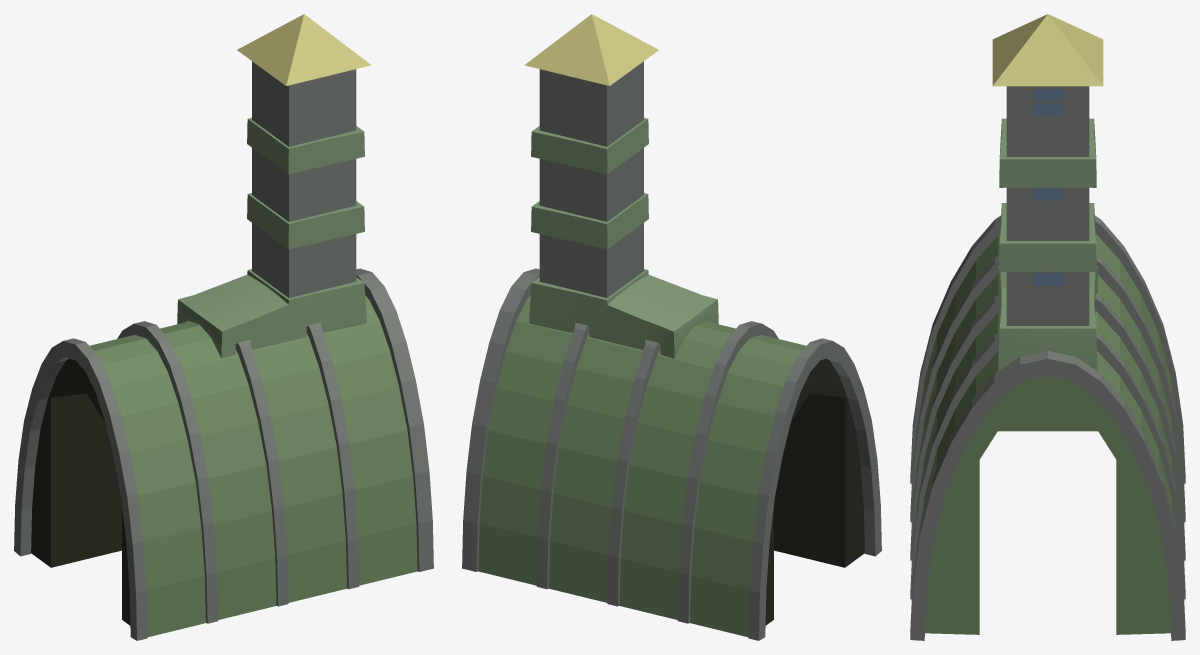
3 views of the same model, side by side, from view 1: azimuth 30°, elevation 25°; view 2: azimuth 150°, elevation 25°; view 3: azimuth 270°, elevation 25° (orthographic). The views are drawn at different scales.
Visible parts, largest first — view 1: Base4, Expansion3, Expansion1, Expansion2; view 2: Base4, Expansion3, Expansion1, Expansion2; view 3: Base4, Expansion3, Expansion1, Expansion2.
Boxes of the visible parts, box(x1,y1,x2,y2) form: Base4: box(14, 268, 433, 640); Expansion3: box(237, 14, 371, 174); Expansion1: box(177, 208, 366, 358); Expansion2: box(247, 134, 364, 249); Base4: box(462, 268, 881, 640); Expansion3: box(524, 14, 658, 174); Expansion1: box(529, 208, 718, 358); Expansion2: box(531, 134, 648, 249); Base4: box(910, 215, 1185, 640); Expansion3: box(992, 14, 1103, 187); Expansion1: box(998, 266, 1097, 370); Expansion2: box(999, 187, 1096, 271).
Bounding box in the file's own units: 4.8 × 8.17 × 3.45.
